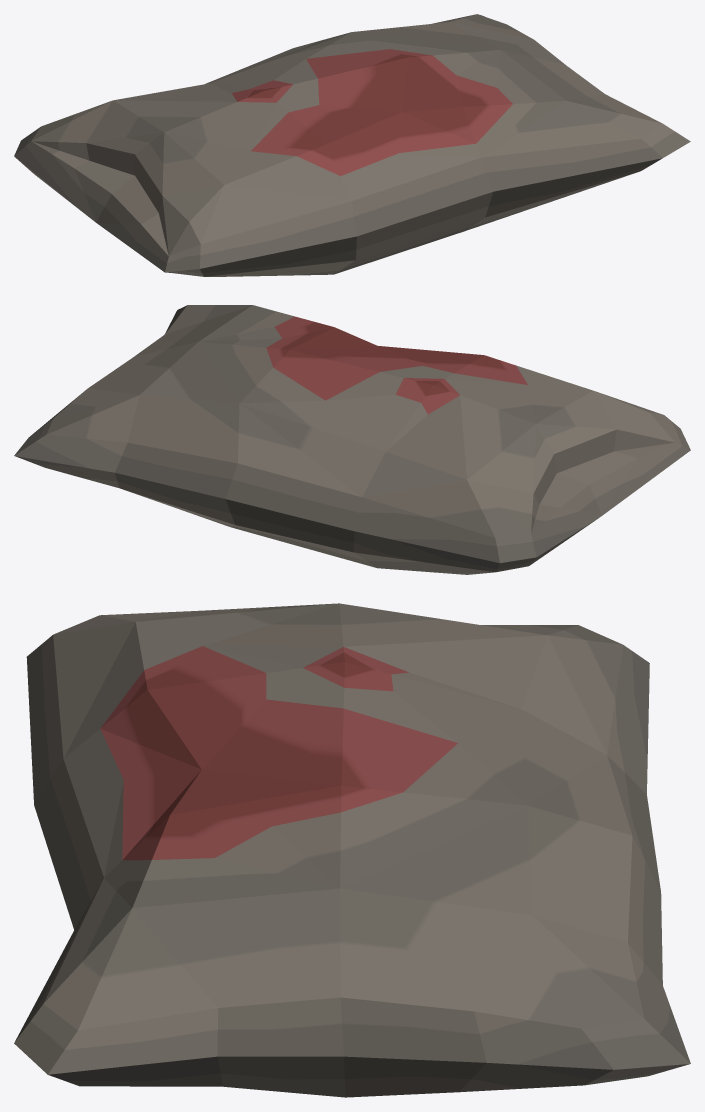
Rendered from SM_Prop_Pillow_01.fbx.
3 views of the same model, one above another, from view 1: azimuth 30°, elevation 25°; view 2: azimuth 150°, elevation 25°; view 3: azimuth 270°, elevation 25° (orthographic). The views are drawn at different scales.
Parts seen in each view (by area): view 1: SM_Prop_Pillow_01; view 2: SM_Prop_Pillow_01; view 3: SM_Prop_Pillow_01.
Part boxes in pixels (x1,y1,x2,y2): SM_Prop_Pillow_01: (14,14,690,276); SM_Prop_Pillow_01: (14,305,690,574); SM_Prop_Pillow_01: (14,603,690,1097).
Bounding box in the file's own units: 74.94 × 20.92 × 48.73.
